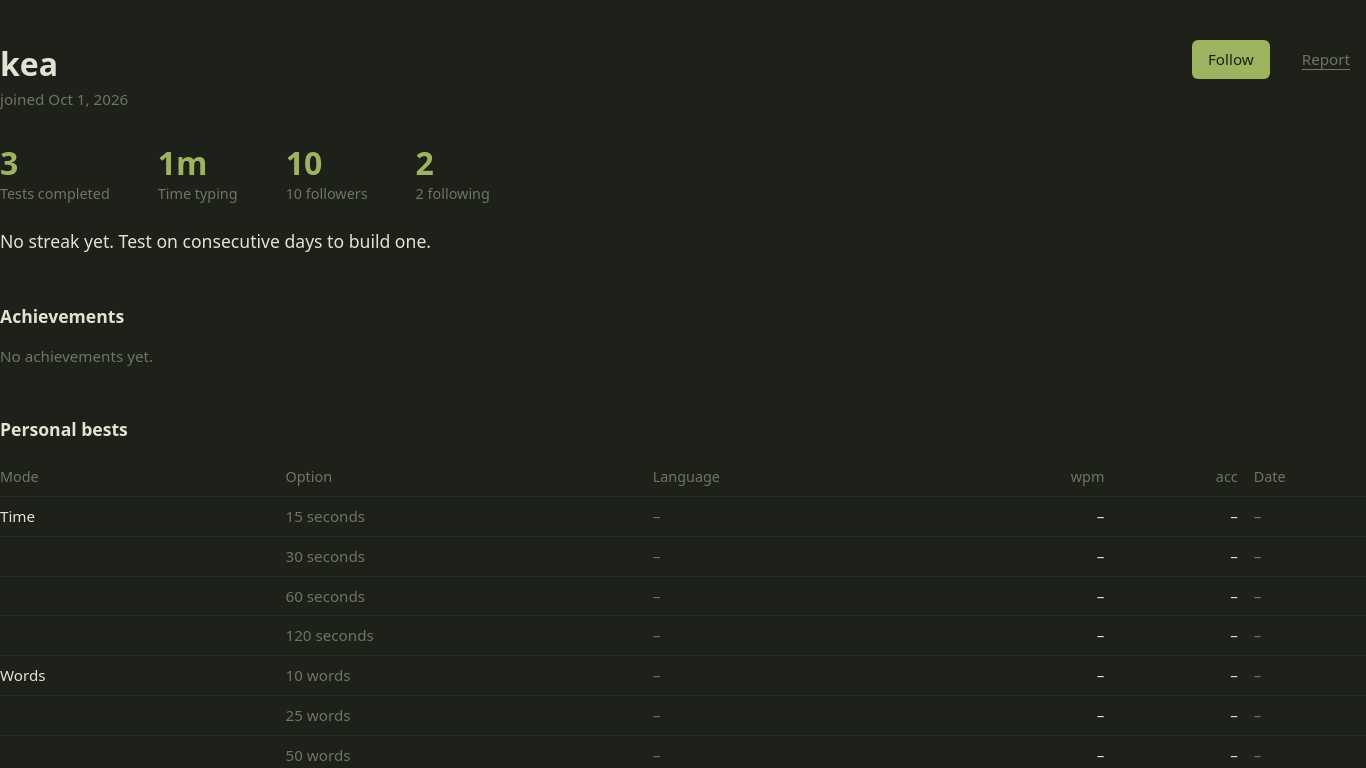
Test: report dialog › sends the reason and details, then thanks the reporter
Click the button "Report".
click(1326, 59)  # box [1286,40,1365,79]
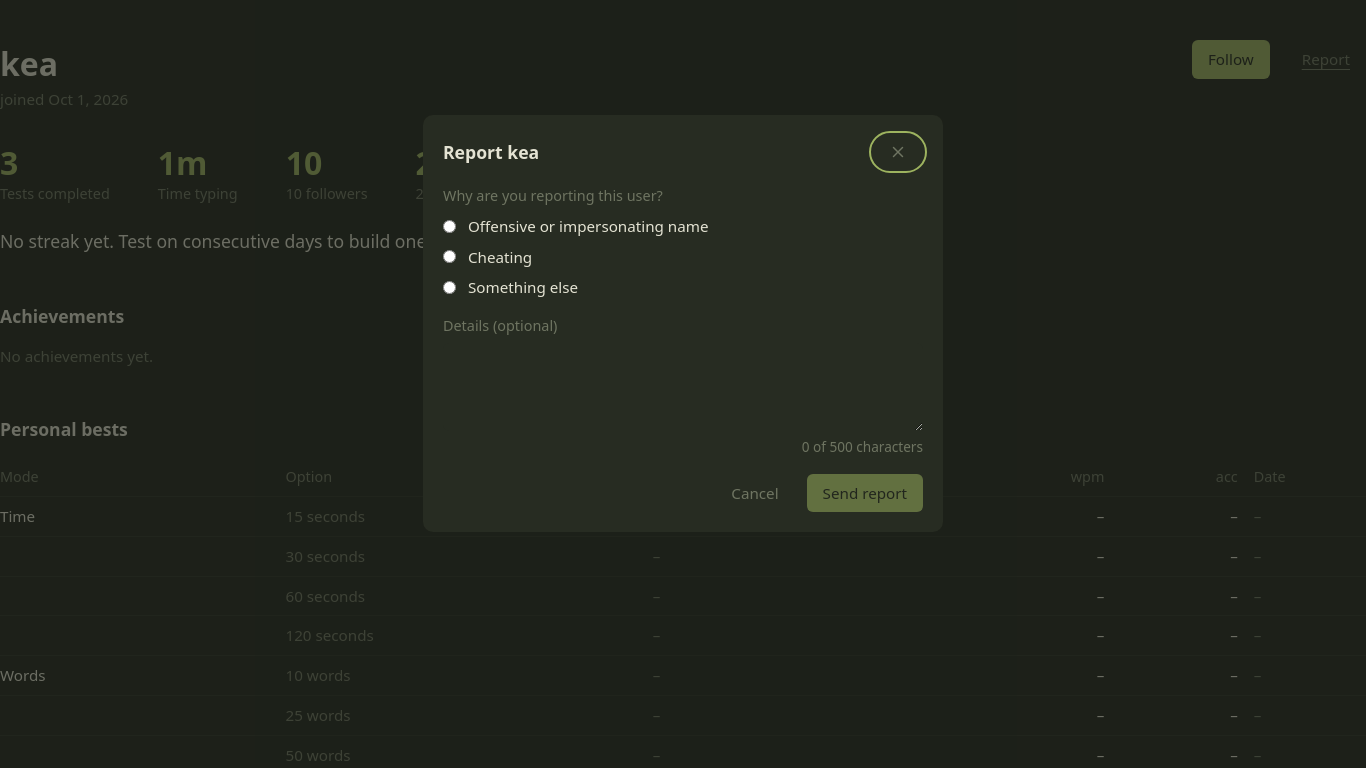
Click the radio button labelled "Something else".
click(450, 288)  # box [443,281,456,294]
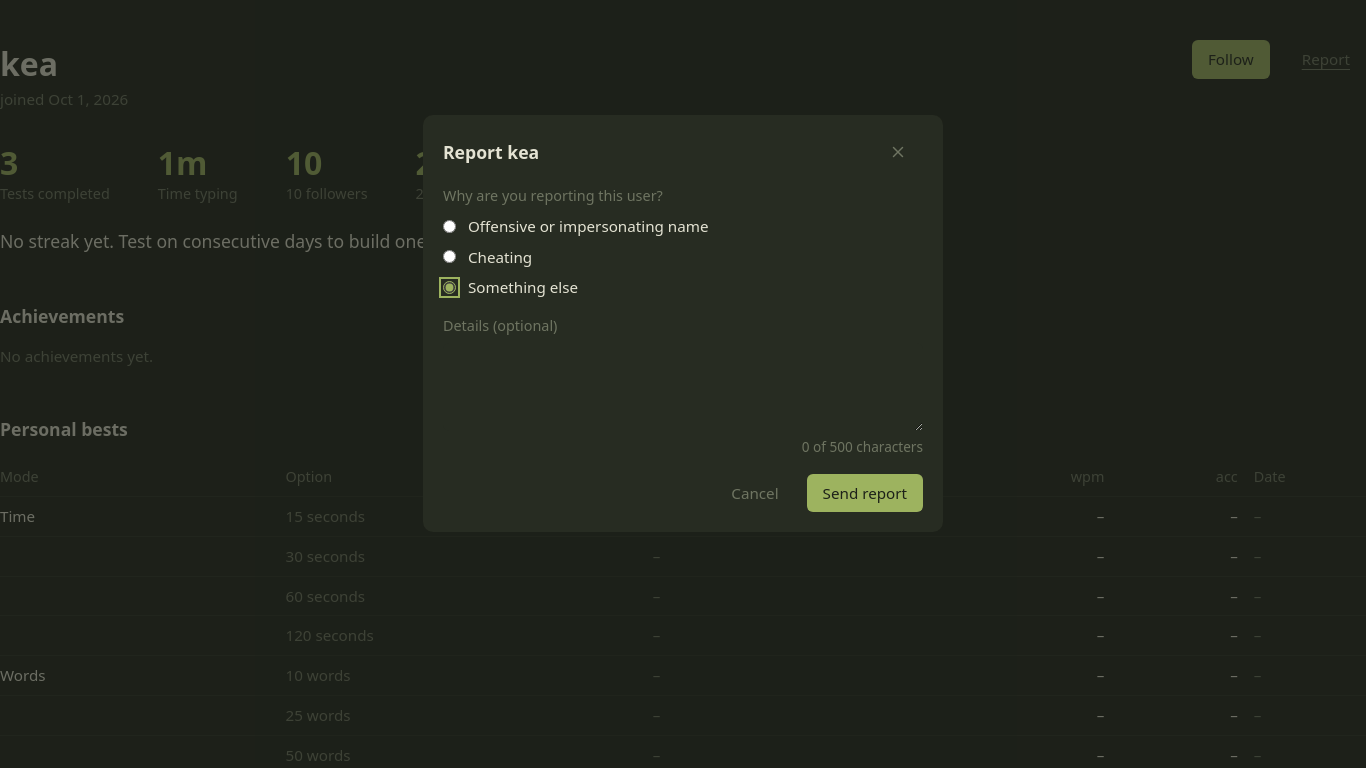
Type "Odd" into the text box.
click(683, 387); type("Odd")  # box [443,343,923,431]
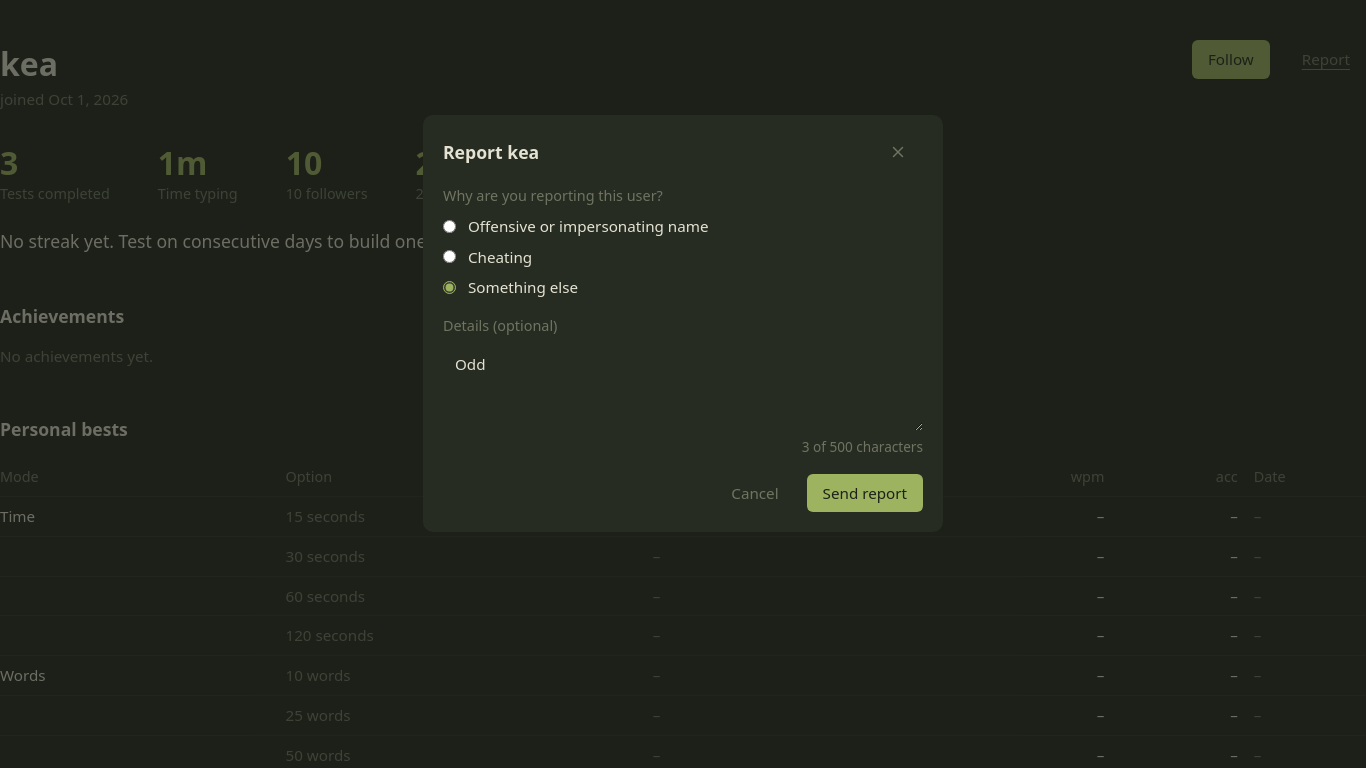
Click the button "Send report".
click(865, 493)  # box [807,474,923,512]
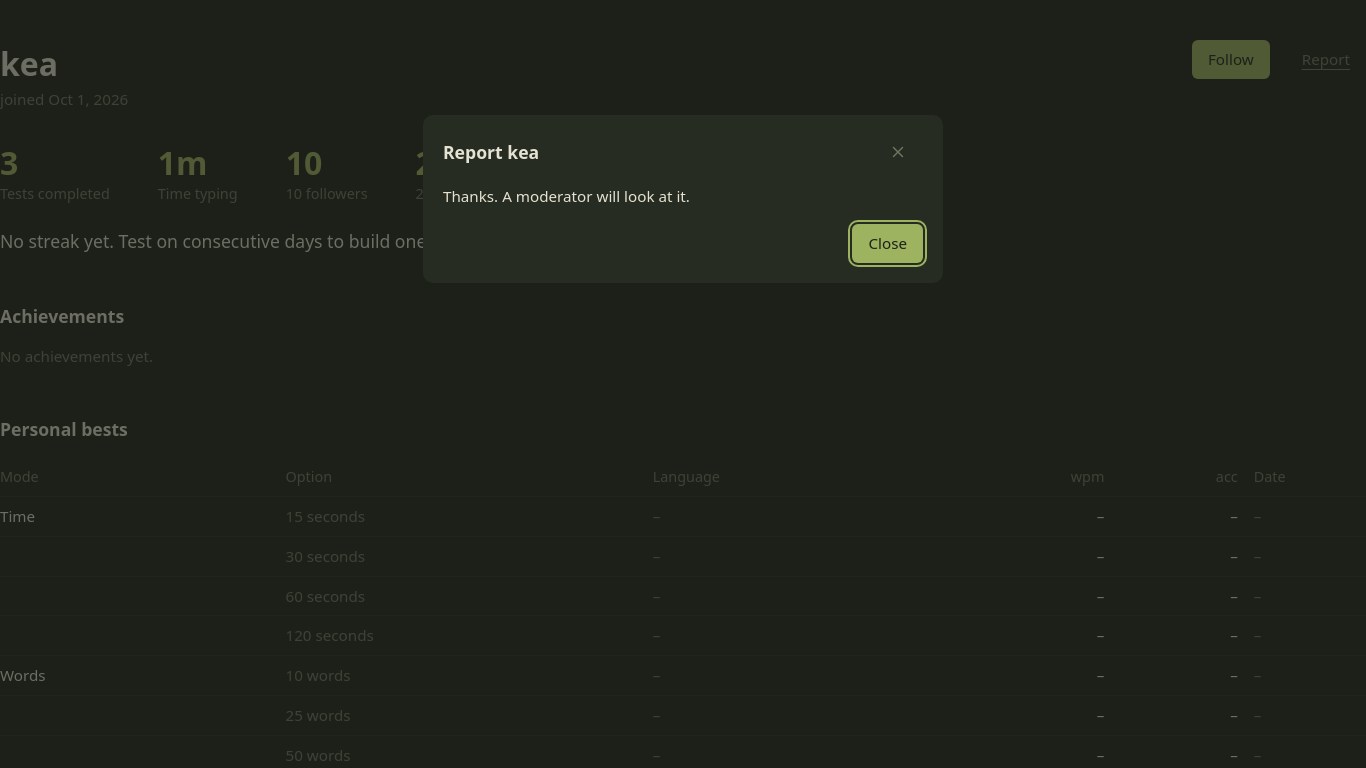
Check: the text "Thanks. A moderator will look at it." is shown, box [443,186,690,206]
